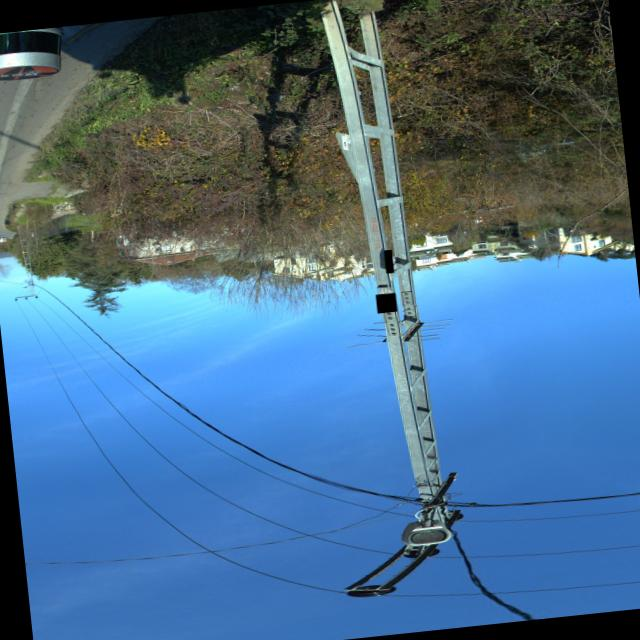Utility Pole Information Plate: (374, 292, 396, 312), (384, 248, 392, 272)
